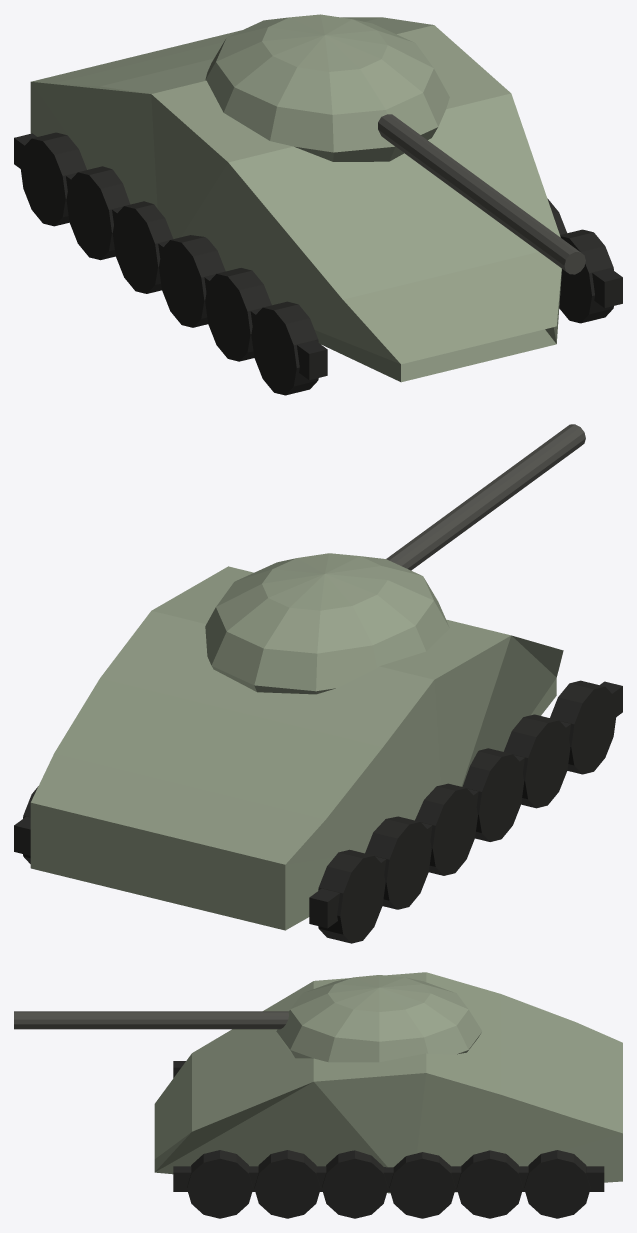
3 views of the same model, one above another, from view 1: azimuth 30°, elevation 25°; view 2: azimuth 150°, elevation 25°; view 3: azimuth 270°, elevation 25° (orthographic). The views are drawn at different scales.
Visible parts, largest first — view 1: Hull, Turret, Gun, Wheel_L_01, Wheel_L_02, Wheel_L_06, Wheel_L_03, Wheel_L_05, Wheel_L_04, Wheel_R_01, Track_L, Track_R; view 2: Hull, Turret, Gun, Wheel_L_06, Wheel_L_01, Wheel_L_02, Wheel_L_05, Wheel_L_03, Wheel_L_04, Track_L; view 3: Hull, Turret, Gun, Wheel_R_02, Wheel_R_06, Wheel_R_01, Wheel_R_05, Wheel_R_03, Wheel_R_04, Track_R.
Boxes of the visible parts, box(x1,y1,x2,y2) form: Hull: box(30, 17, 561, 382); Turret: box(205, 14, 449, 161); Gun: box(378, 114, 585, 274); Wheel_L_01: box(251, 301, 318, 395); Wheel_L_02: box(205, 268, 271, 361); Wheel_L_06: box(20, 132, 86, 226); Wheel_L_03: box(159, 235, 225, 327); Wheel_L_05: box(66, 166, 130, 260); Wheel_L_04: box(112, 201, 173, 293); Wheel_R_01: box(559, 229, 613, 323); Track_L: box(14, 133, 327, 380); Track_R: box(592, 268, 622, 307); Hull: box(30, 566, 563, 930); Turret: box(205, 553, 449, 694); Gun: box(386, 424, 585, 570); Wheel_L_06: box(318, 849, 385, 943); Wheel_L_01: box(550, 680, 616, 774); Wheel_L_02: box(503, 714, 570, 808); Wheel_L_05: box(365, 816, 431, 909); Wheel_L_03: box(462, 748, 524, 841); Wheel_L_04: box(415, 783, 477, 875); Track_L: box(309, 681, 622, 928); Hull: box(154, 972, 622, 1193); Turret: box(276, 975, 482, 1062); Gun: box(14, 1011, 288, 1029); Wheel_R_02: box(254, 1150, 320, 1218); Wheel_R_06: box(524, 1150, 590, 1218); Wheel_R_01: box(187, 1150, 253, 1218); Wheel_R_05: box(456, 1150, 522, 1218); Wheel_R_03: box(322, 1150, 388, 1218); Wheel_R_04: box(389, 1152, 455, 1218); Track_R: box(173, 1166, 604, 1191).
Size of the model in its own units: 2.8 by 1.99 by 6.32.
